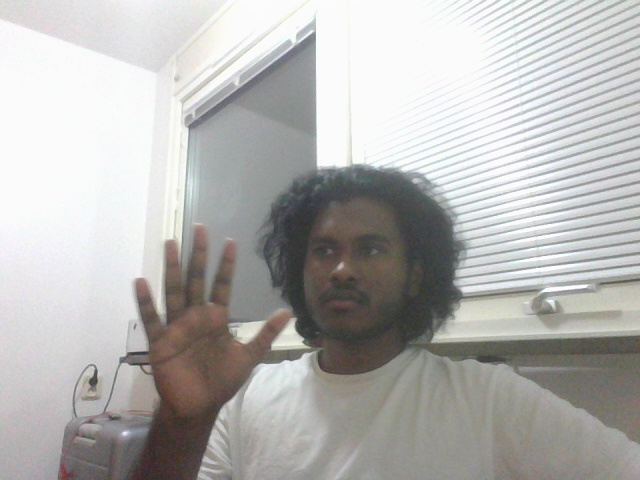hello: (118, 210, 294, 435)
